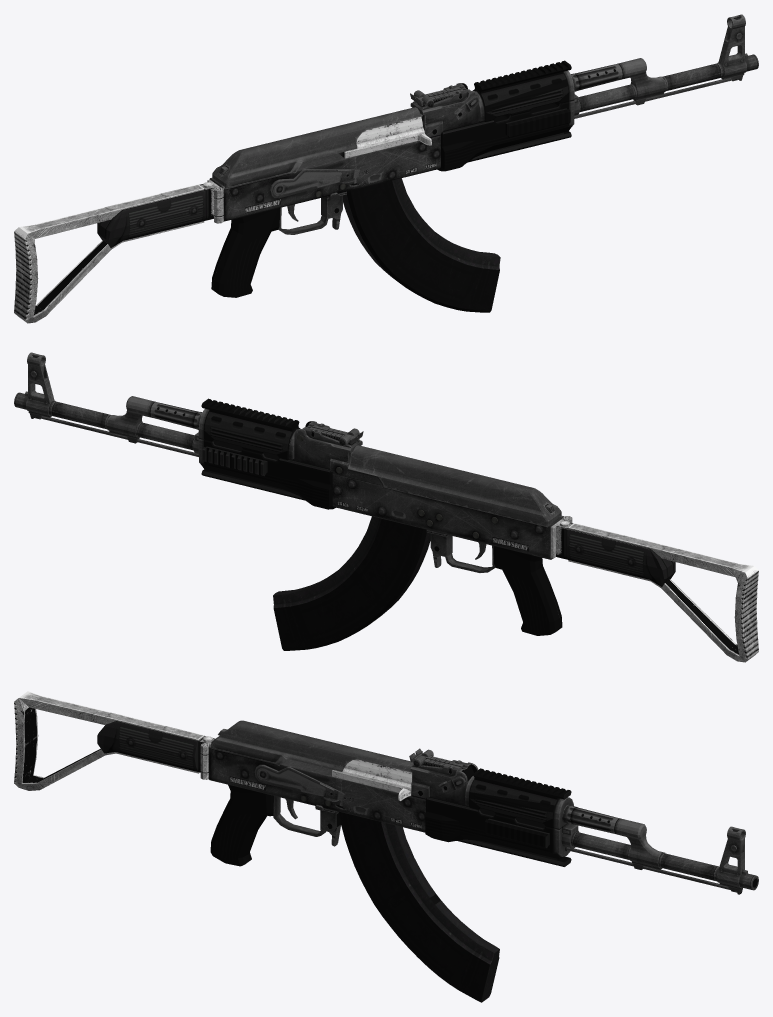
File: assaultrifle.glb
3 renders of one model, top to bottom at view 1: azimuth 30°, elevation 25°; view 2: azimuth 150°, elevation 25°; view 3: azimuth 330°, elevation 25°, orthographic.
Parts seen in each view (by area): view 1: assaultrifle_0.001, assaultrifle_mag_0.001, assaultrifle_1.001, assaultrifle_2.001, assaultrifle_3.001, assaultrifle_5.001, assaultrifle_4.001; view 2: assaultrifle_0.001, assaultrifle_mag_0.001, assaultrifle_1.001, assaultrifle_2.001, assaultrifle_3.001, assaultrifle_4.001; view 3: assaultrifle_0.001, assaultrifle_mag_0.001, assaultrifle_1.001, assaultrifle_2.001, assaultrifle_3.001, assaultrifle_5.001, assaultrifle_4.001.
Part boxes in pixels (box(x1,y1,x2,y2)): assaultrifle_0.001: box(209, 14, 758, 297); assaultrifle_mag_0.001: box(343, 178, 500, 312); assaultrifle_1.001: box(437, 60, 571, 171); assaultrifle_2.001: box(14, 179, 223, 323); assaultrifle_3.001: box(97, 189, 208, 247); assaultrifle_5.001: box(338, 117, 431, 158); assaultrifle_4.001: box(139, 99, 443, 227); assaultrifle_0.001: box(14, 352, 563, 635); assaultrifle_mag_0.001: box(273, 516, 430, 650); assaultrifle_1.001: box(201, 398, 335, 509); assaultrifle_2.001: box(551, 516, 758, 662); assaultrifle_3.001: box(564, 528, 675, 586); assaultrifle_4.001: box(297, 434, 633, 565); assaultrifle_0.001: box(208, 720, 758, 894); assaultrifle_mag_0.001: box(338, 811, 499, 1002); assaultrifle_1.001: box(425, 768, 571, 866); assaultrifle_2.001: box(14, 691, 214, 790); assaultrifle_3.001: box(97, 721, 204, 772); assaultrifle_5.001: box(332, 759, 411, 800); assaultrifle_4.001: box(127, 739, 437, 828).
Bounding box in the file's own units: 1.77 × 0.5362 × 0.1185.
Materials: 7 (7 with a texture image).
